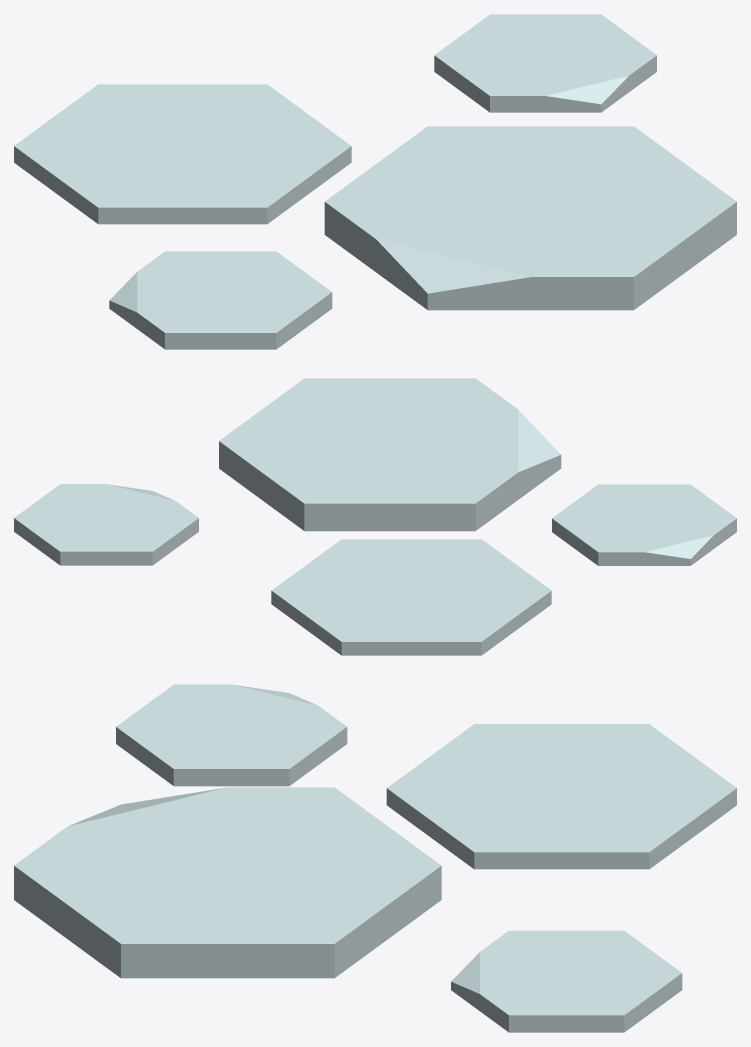
File: path-stoneend.gltf
3 views of the same model, one above another, from view 1: azimuth 30°, elevation 25°; view 2: azimuth 150°, elevation 25°; view 3: azimuth 270°, elevation 25° (orthographic). The views are drawn at different scales.
Parts seen in each view (by area): view 1: path_stoneEnd; view 2: path_stoneEnd; view 3: path_stoneEnd.
Part boxes in pixels (x1,y1,x2,y2): path_stoneEnd: (14, 14, 736, 349); path_stoneEnd: (14, 378, 736, 655); path_stoneEnd: (14, 684, 736, 1032).
Bounding box in the file's own units: 1.24 × 0.06 × 1.14.
